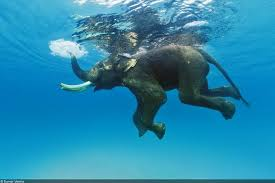elephant: (57, 41, 245, 140)
